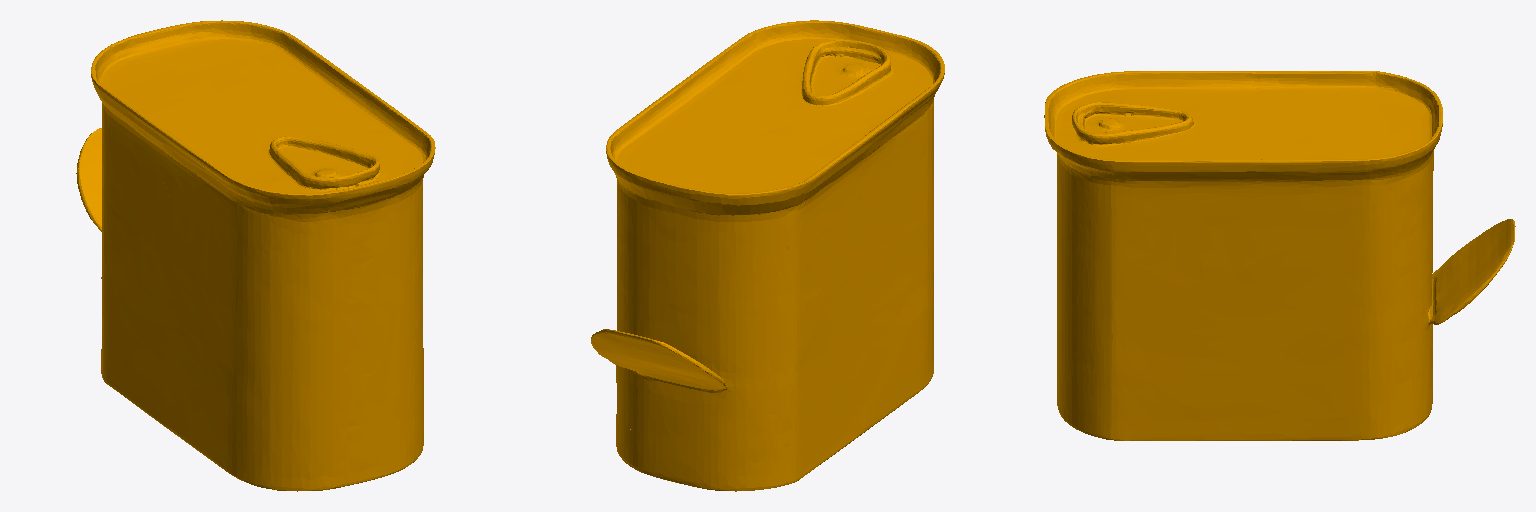
URDF robot description (sample):
<?xml version="1.0" ?>
<robot name="sample">
   <link name="sample">
      <visual>
         <origin xyz="0 0 0" rpy="1.5708 0.0 0.0"/>
         <geometry>
            <mesh filename="mesh/sample.obj" scale="1.0 1.0 1.0"/>
         </geometry>
      </visual>
      <collision>
         <origin xyz="0 0 0" rpy="1.5708 0.0 0.0"/>
         <geometry>
            <mesh filename="mesh/sample_collision.obj" scale="1.0 1.0 1.0"/>
         </geometry>
         <gazebo>
            <mu1>0.60</mu1>
            <mu2>0.50</mu2>
         </gazebo>
      </collision>
      <inertial>
         <mass value="0.4000"/>
         <origin xyz="0 0 0"/>
         <inertia ixx="1.0" ixy="0.0" ixz="0.0" iyy="1.0" iyz="0.0" izz="1.0"/>
      </inertial>
      <extra_info>
         <scale>0.201701</scale>
         <version>v0.1.7</version>
         <category>canned food</category>
         <description>cylindrical can with burger label and pull-tab</description>
         <min_height>0.12</min_height>
         <max_height>0.15</max_height>
         <real_height>0.135</real_height>
         <min_mass>0.3</min_mass>
         <max_mass>0.5</max_mass>
         <color>blue</color>
         <rgba>[0.0, 0.0, 0.8, 1.0]</rgba>
         <generate_time>20260615172339</generate_time>
         <gs_model>mesh/sample_gs.ply</gs_model>
      </extra_info>
   </link>
   <custom_data>
      <quality>
         <MeshGeoChecker>NO: the can has inconsistent labeling and a protruding element on one side.</MeshGeoChecker>
         <ImageSegChecker>NO, object is not centered and appears truncated with artifacts on edges.</ImageSegChecker>
         <ImageAestheticChecker>4.390144467353821</ImageAestheticChecker>
         <overall>NO</overall>
      </quality>
   </custom_data>
</robot>

--- Render facts (derived) ---
Views: 3 orthographic renders of the robot side by side, from view 1: azimuth 30°, elevation 25°; view 2: azimuth 150°, elevation 25°; view 3: azimuth 270°, elevation 25°.
Robot: sample — 1 links, 0 joints (none); root link sample; default pose: every joint at zero.
Visible links, largest first — view 1: sample; view 2: sample; view 3: sample.
Boxes of the visible links, x1,y1,x2,y2 form: sample: [76, 20, 435, 491]; sample: [591, 20, 944, 491]; sample: [1044, 71, 1515, 440].
Size in the robot's own frame: 0.0923 by 0.2017 by 0.135 metres.
1 mesh visuals loaded from 1 distinct referenced files (1 OBJ).
